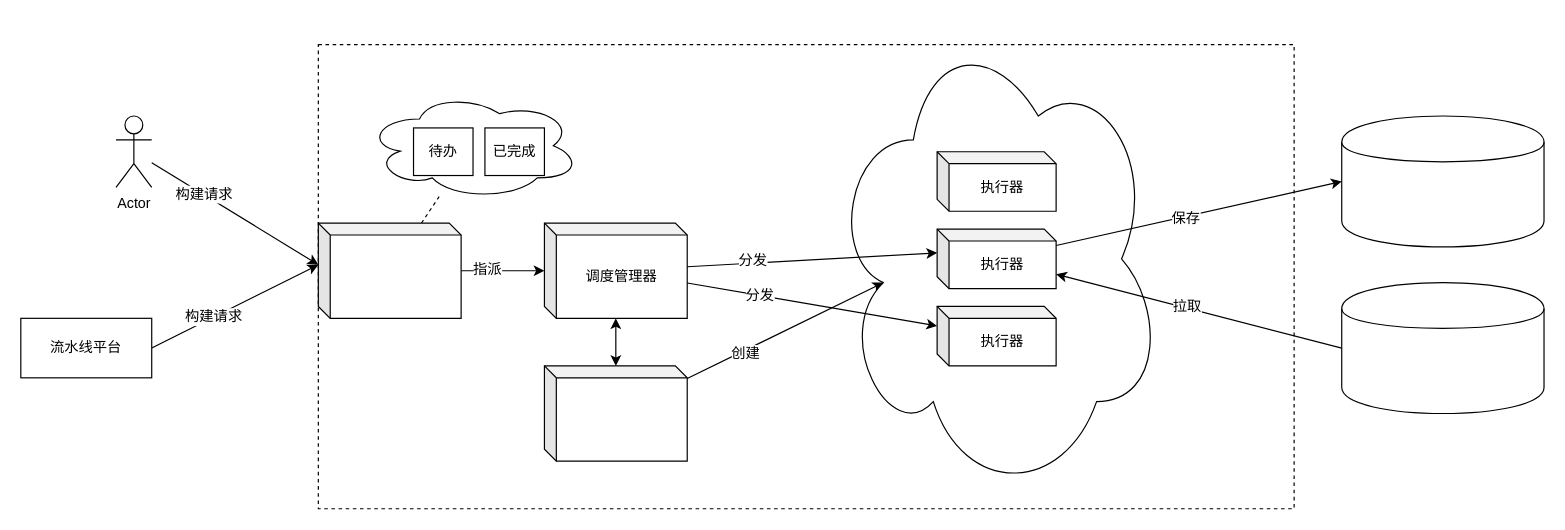
Image size: 1565x530. Some labels were removed from this diagram. The centre of each missing label's shape, as x and y in pixels:
"代码仓库" goes at (x=1442, y=347).
"任务管理" goes at (x=389, y=270).
"制品库" goes at (x=1442, y=181).
"集群管理" goes at (x=615, y=413).
